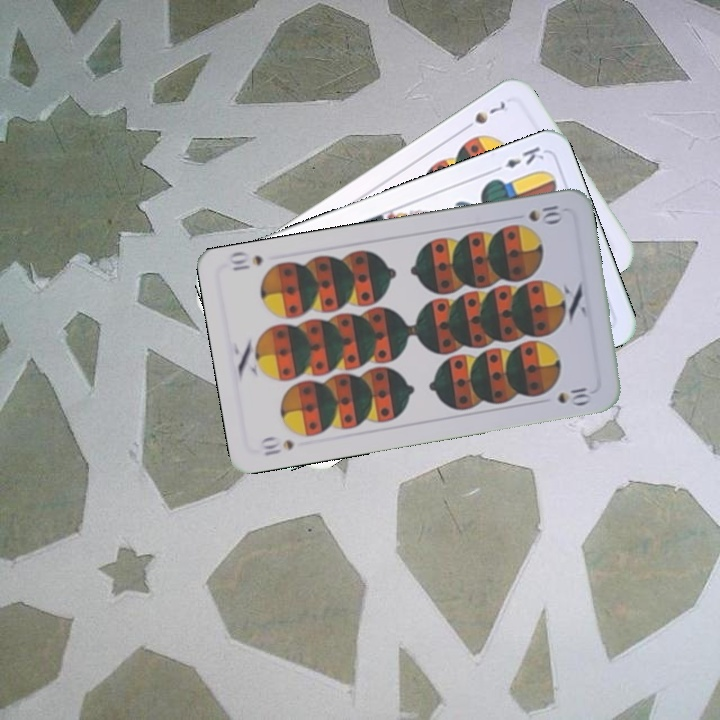EK: (488, 142, 547, 176)
S10: (525, 201, 565, 226), (257, 433, 297, 458)
S7: (458, 98, 508, 134)
